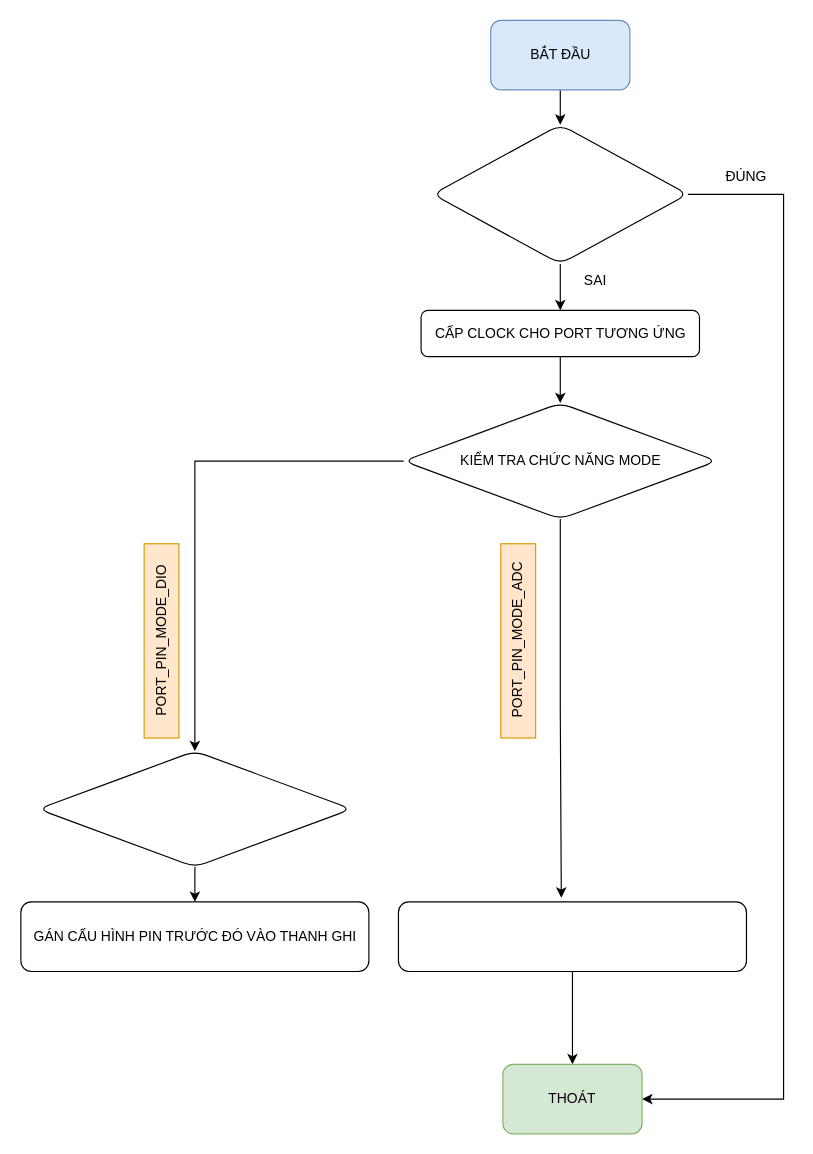
The diagram is 813 pixels wide and 1154 high, and some of its shapes have lost their labels. Here are the shapes that lost their labels. From the top down, the centre of each, then its label:
the point at 560,194: IF GPIO_PORT == NULL
the point at 194,808: KIỂM TRA OUTPUT HAY INPUT
the point at 571,936: KHỞI TẠO CẤU HÌNH MẶC ĐỊNH CHO ADC MODE
